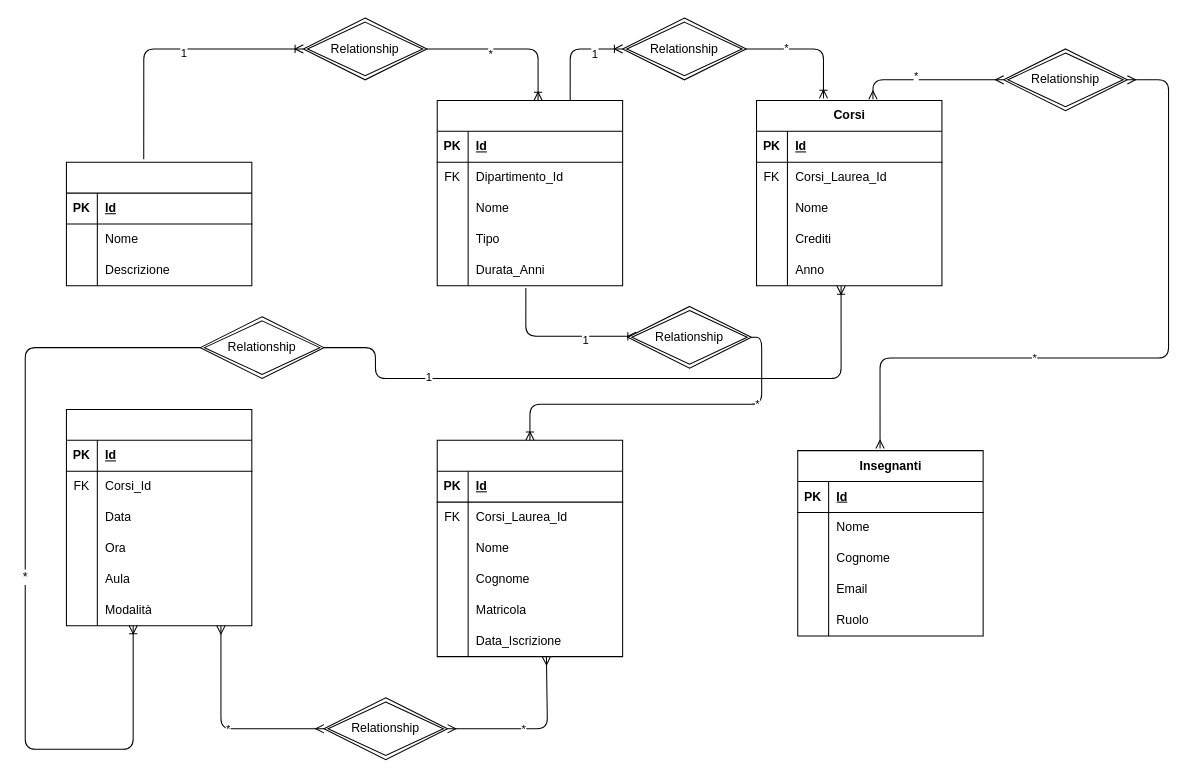
This 1196x778 diagram has some shape labels left out. Each missing label, with the box of its shape:
Corsi_Laurea: (436, 99, 623, 286)
Dipartimenti: (65, 161, 252, 286)
Esami: (65, 408, 252, 626)
Studenti: (436, 439, 623, 657)
